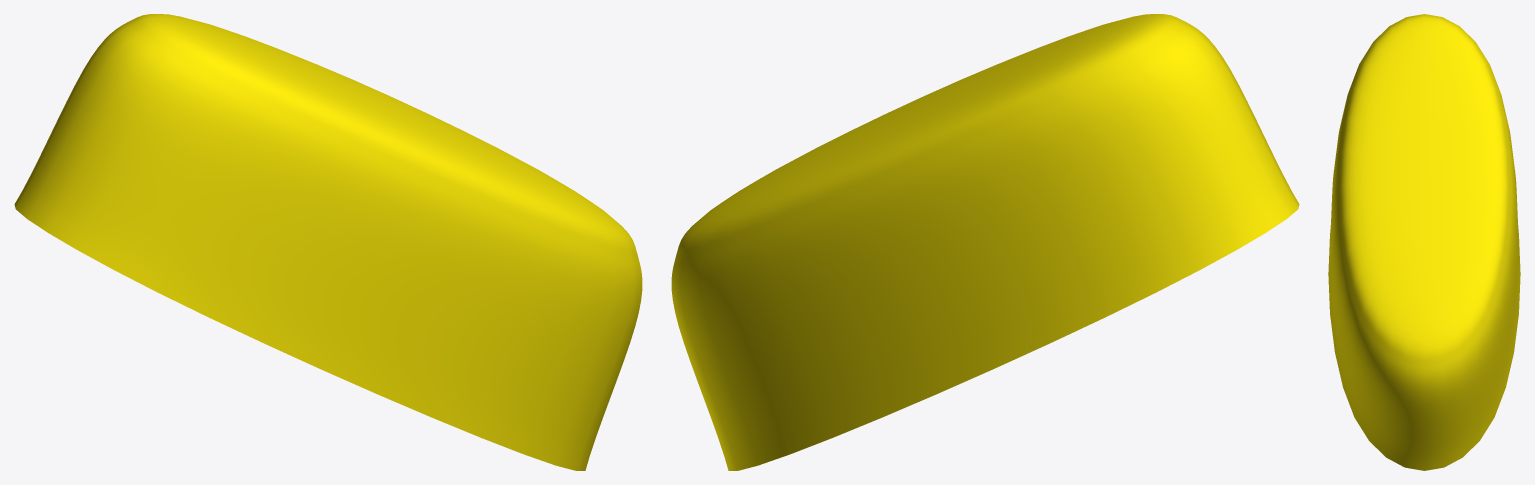
Rendered from TurboButton.fbx.
3 renders of one model, left to right at view 1: azimuth 30°, elevation 25°; view 2: azimuth 150°, elevation 25°; view 3: azimuth 270°, elevation 25°, orthographic. The views are drawn at different scales.
Parts seen in each view (by area): view 1: Cube.002; view 2: Cube.002; view 3: Cube.002.
Part boxes in pixels (bbox=[...]): Cube.002: bbox=[14, 14, 642, 470]; Cube.002: bbox=[671, 14, 1299, 470]; Cube.002: bbox=[1328, 14, 1520, 470].
Size of the model in its own units: 18.57 by 15.6 by 8.28.
